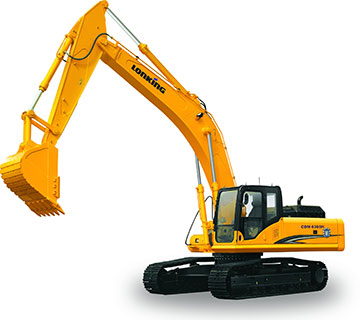backhoe: (1, 1, 347, 302)
